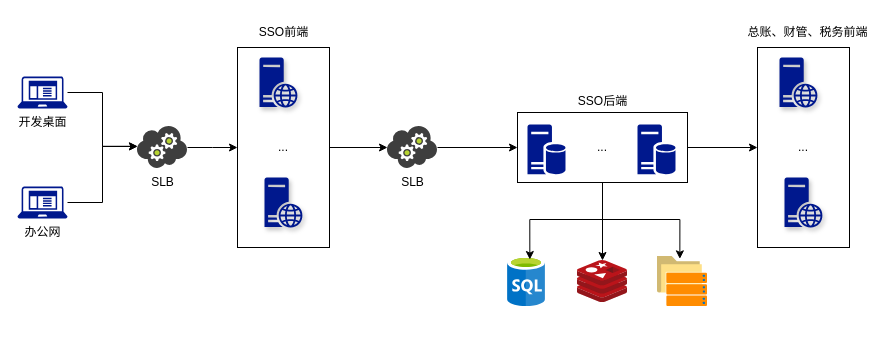
This 894x344 diagram has some shape labels left out. The centre of each missing label's shape, as x and y in pixels:
OB: [526,281]
oss: [682,281]
redis: [602,281]
